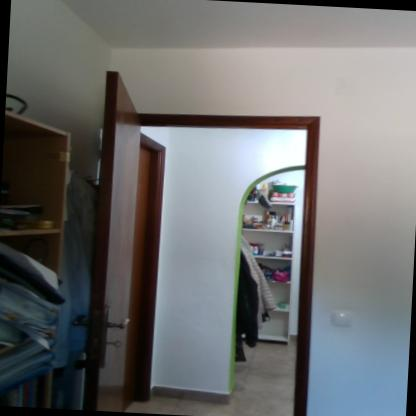open: (113, 82, 338, 415)
